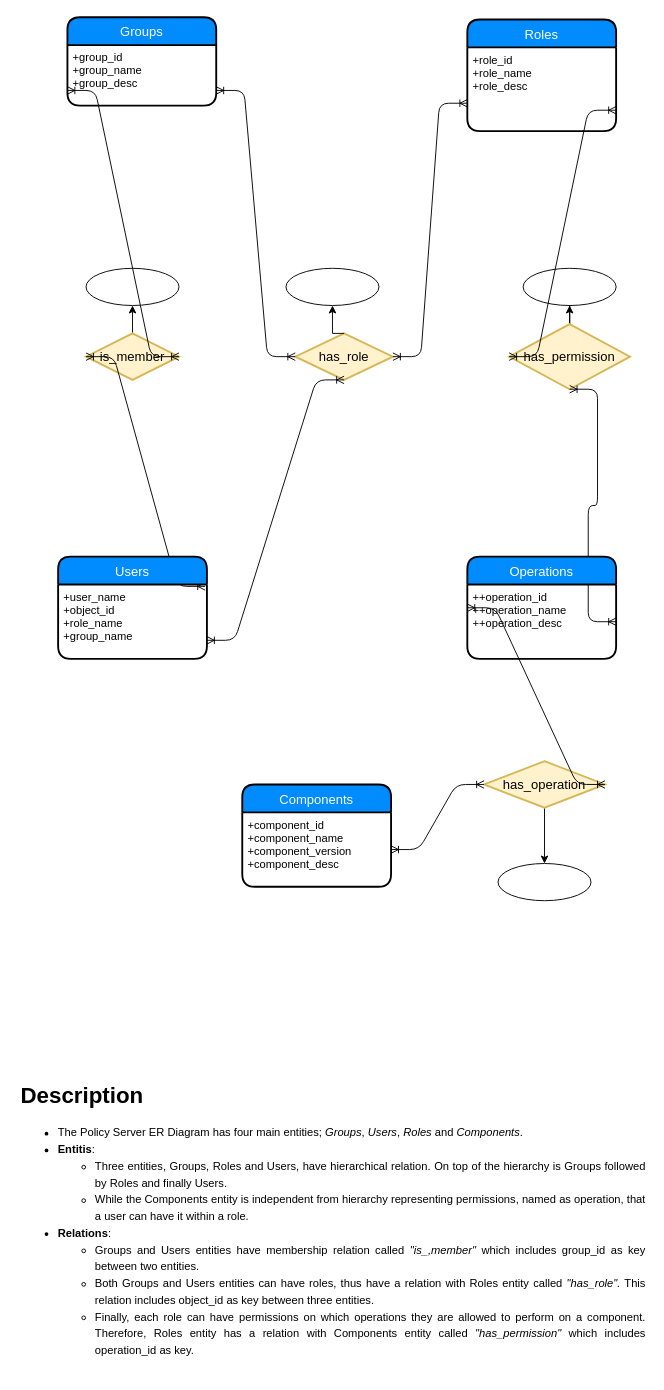
Some shapes in this 664 by 1390 pixel diagram are drawn without their labels. The shapes that lost their labels are listed below. From the top down, each one's centre as x and y in pixels, then its label:
At (x=132, y=286): "group_id".
At (x=332, y=286): "role_id".
At (x=569, y=286): "operation_id".
At (x=544, y=882): "component_id".
